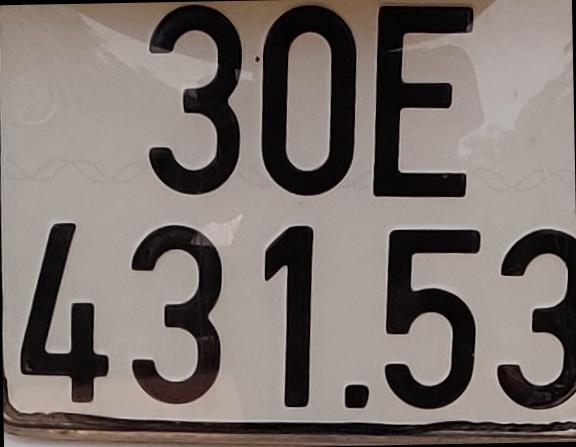.: (340, 370, 372, 411)
0: (259, 0, 361, 202)
1: (265, 217, 319, 406)
3: (142, 2, 241, 197), (132, 220, 228, 402), (493, 230, 576, 405)
4: (14, 226, 116, 405)
5: (385, 228, 476, 408)
E: (373, 0, 479, 205)
